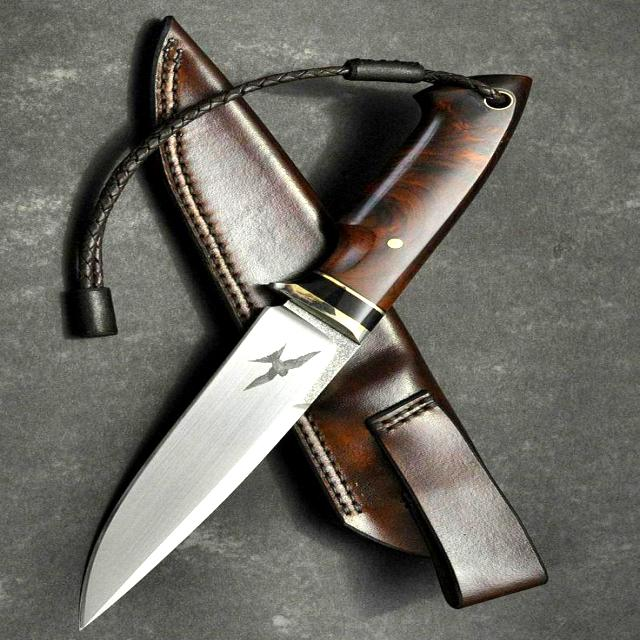short sword: (73, 65, 552, 638)
